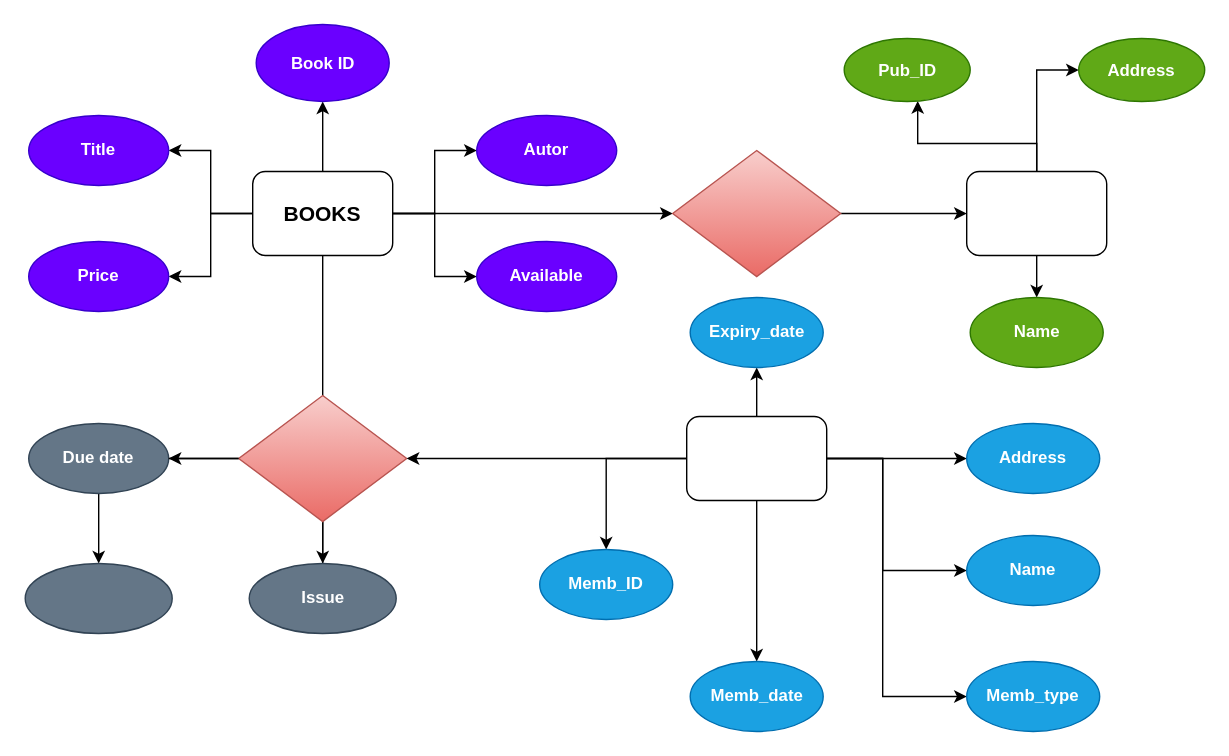
Some shapes in this 1229 by 756 pixel diagram are drawn without their labels. The shapes that lost their labels are listed below. From the top down, each one's centre as x and y in pixels, then its label:
At (x=756, y=212): "Published by".
At (x=1036, y=212): "Publisher".
At (x=322, y=458): "Browse by".
At (x=756, y=457): "Member".
At (x=98, y=598): "Return date".
